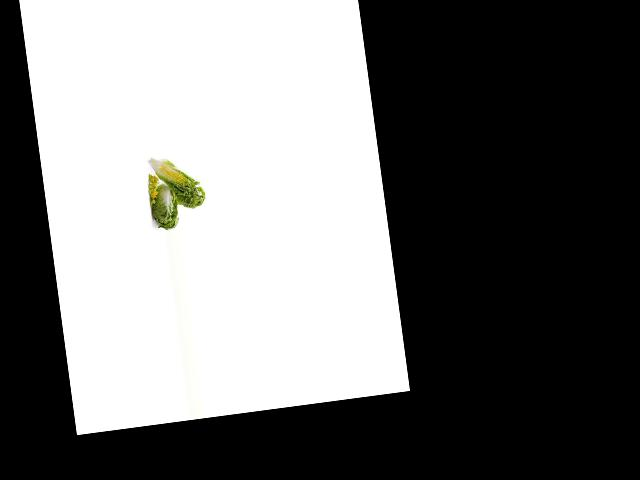lettuce: (145, 176, 182, 230)
